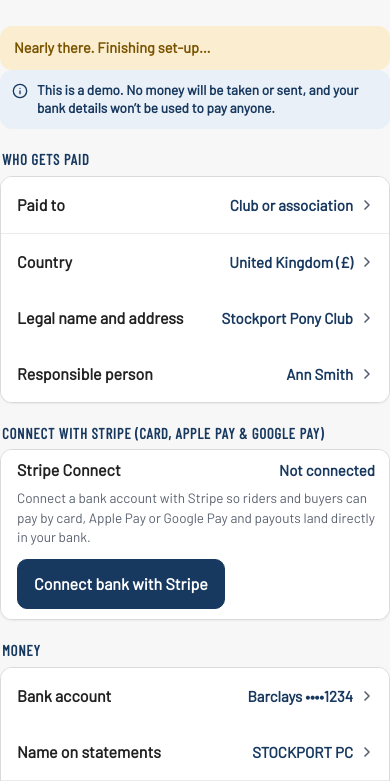
Test: PayoutsPage: legal name and address › leaves out the registration box for a club
Click the button "Legal name and address Stockport Pony Club".
click(100, 317)  # box [1,290,389,346]
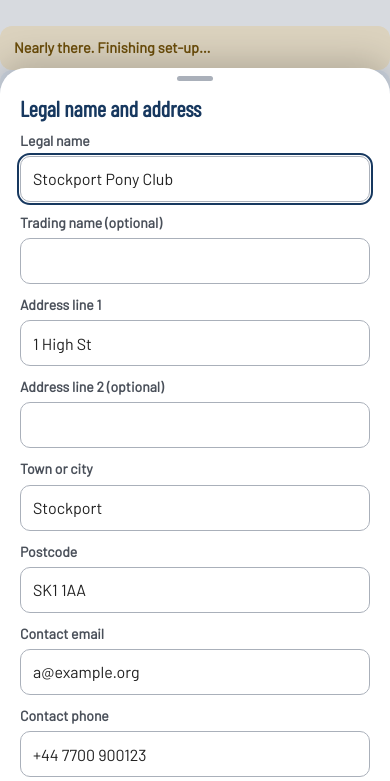
Expected: the field labelled "Legal name" holds "Stockport Pony Club", [20,156,370,202]
